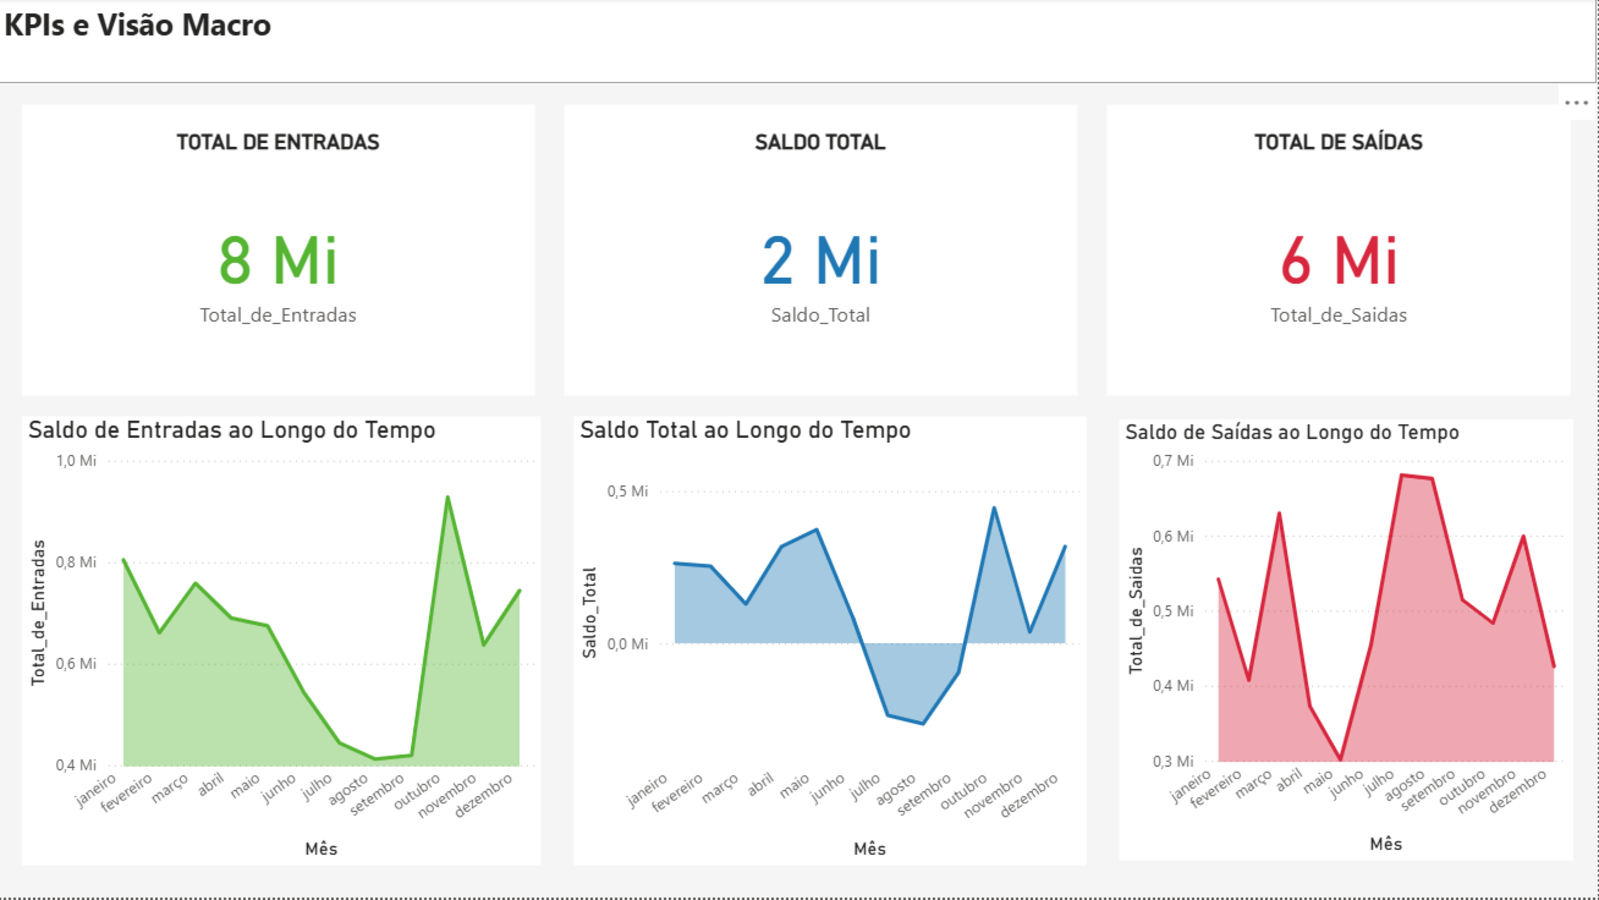

Layout of this report page (visuals, bound fields, positions):
{"tool":"powerbi","page":{"name":"Página 1","canvas":[1280,720],"ordinal":0},"visuals":[{"type":"card","title":"TOTAL DE ENTRADAS","fields":{"Values":["mini_projeto_financeiro_Clean.Total_de_Entradas"]},"box":[19,85,410,233],"z":0},{"type":"card","title":"SALDO LÍQUIDO","fields":{"Values":["mini_projeto_financeiro_Clean.Saldo_Total"]},"box":[453.5,85,410,233],"z":1000},{"type":"card","title":"TOTAL DE SAÍDAS","fields":{"Values":["mini_projeto_financeiro_Clean.Total_de_Saidas"]},"box":[888,85,371,233],"z":2000},{"type":"lineChart","title":"Saldo de Entradas ao Longo do Tempo","fields":{"Y":["mini_projeto_financeiro_Clean.Total_de_Entradas"],"Category":["Calendario.Date.Variation.Hierarquia de datas.Mês"]},"box":[19,335,415,359],"z":3000},{"type":"lineChart","title":"Saldo Total ao Longo do Tempo","fields":{"Category":["Calendario.Date.Variation.Hierarquia de datas.Mês"],"Y":["mini_projeto_financeiro_Clean.Saldo_Total"]},"box":[460.5,335,410,359],"z":4000},{"type":"lineChart","title":"Saldo de Saídas ao Longo do Tempo","fields":{"Category":["Calendario.Date.Variation.Hierarquia de datas.Mês"],"Y":["mini_projeto_financeiro_Clean.Total_de_Saidas","mini_projeto_financeiro_Clean.Total_de_Saidas"]},"box":[897,338,363,353],"z":5000},{"type":"textbox","box":[0,0,1279,69],"z":6000}]}

Visuals, with their boxes in screenshot pixels (x1, y1, x2, y2), scaled from the page's 1280x720 canvas onto the 1599x900 screenshot:
"TOTAL DE ENTRADAS" card: 24/106/536/398
"SALDO LÍQUIDO" card: 567/106/1079/398
"TOTAL DE SAÍDAS" card: 1109/106/1573/398
"Saldo de Entradas ao Longo do Tempo" lineChart: 24/419/542/868
"Saldo Total ao Longo do Tempo" lineChart: 575/419/1087/868
"Saldo de Saídas ao Longo do Tempo" lineChart: 1121/422/1574/864
textbox: 0/0/1598/86
